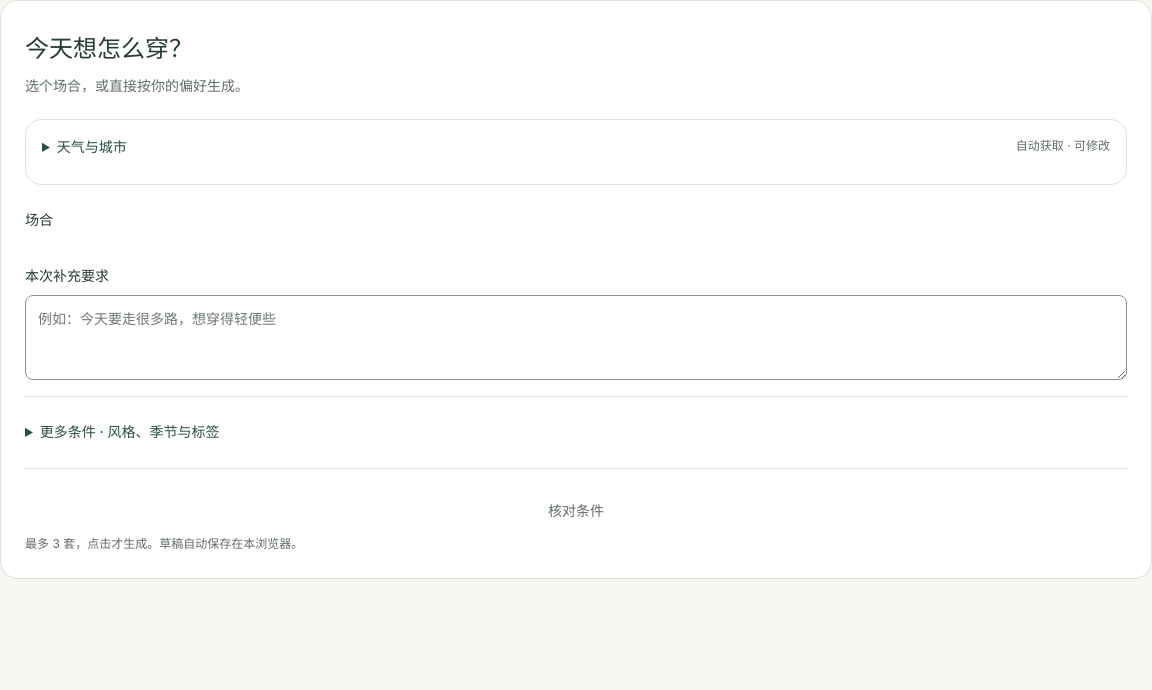
Test: invalid manual weather reopens collapsed fields without submitting
The width and height of the screenshot is (1152, 690).
Click the heading "天气与城市 自动获取 · 可修改" at (92, 147), box 57,138 -> 1110,155
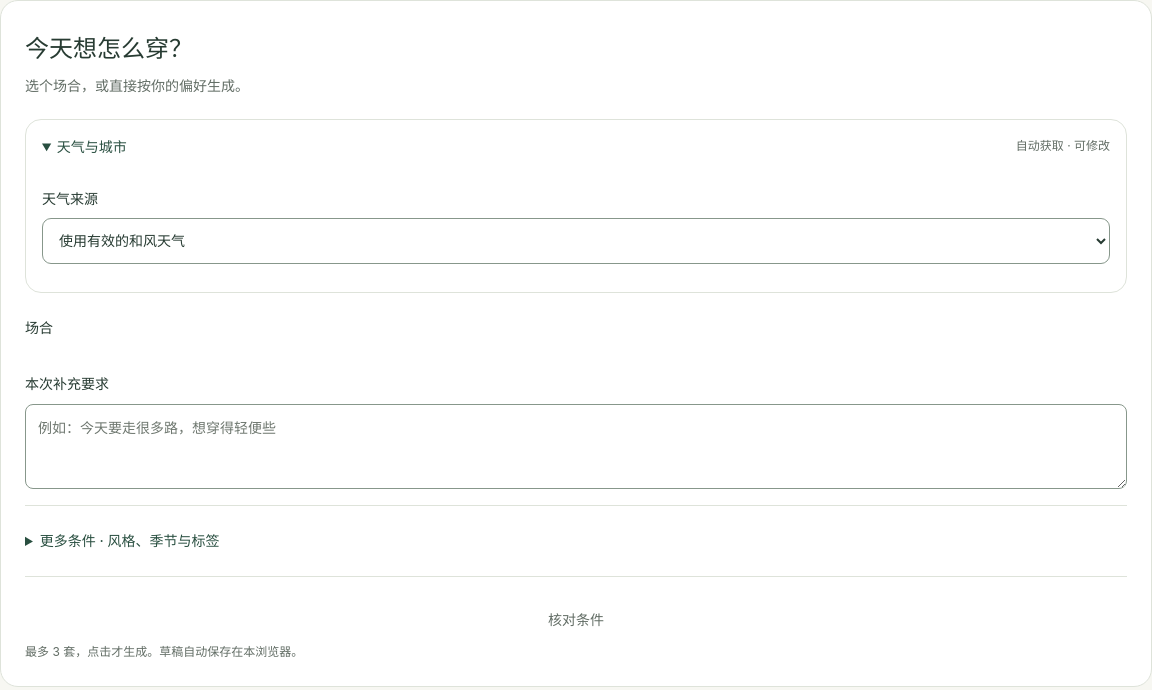
Select "手动填写 / 覆盖" in the dropdown labelled "天气来源" at (576, 241), box 42,218 -> 1110,264
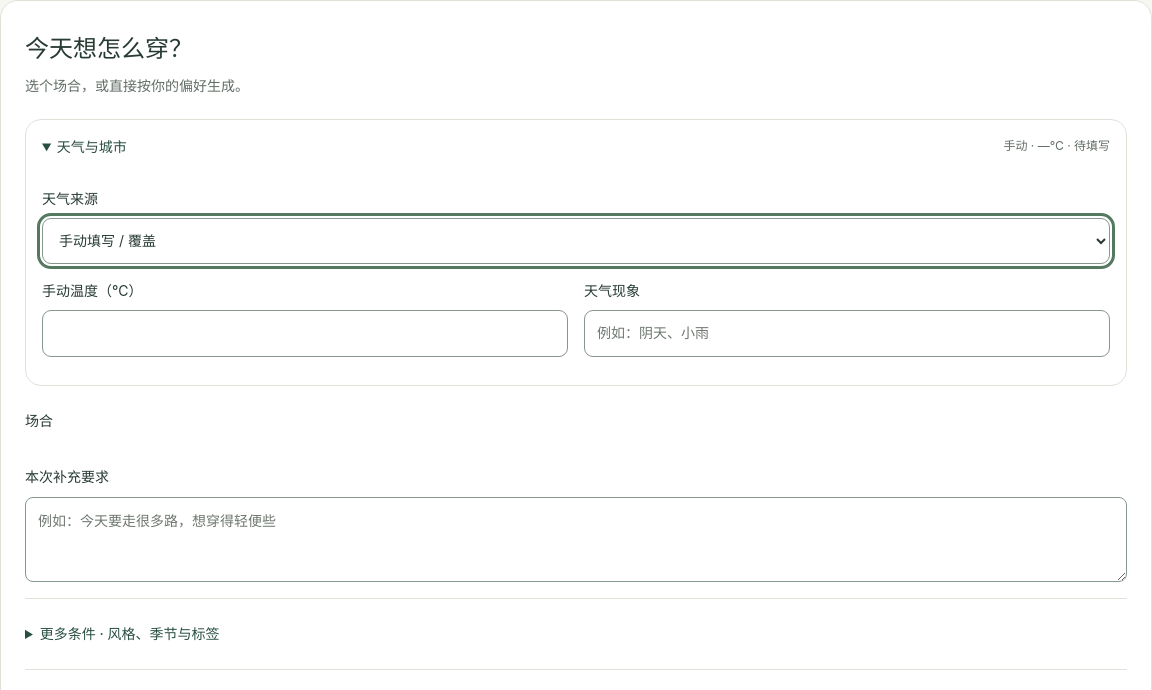
Click the heading "天气与城市 手动 · —℃ · 待填写" at (92, 147), box 57,138 -> 1110,155
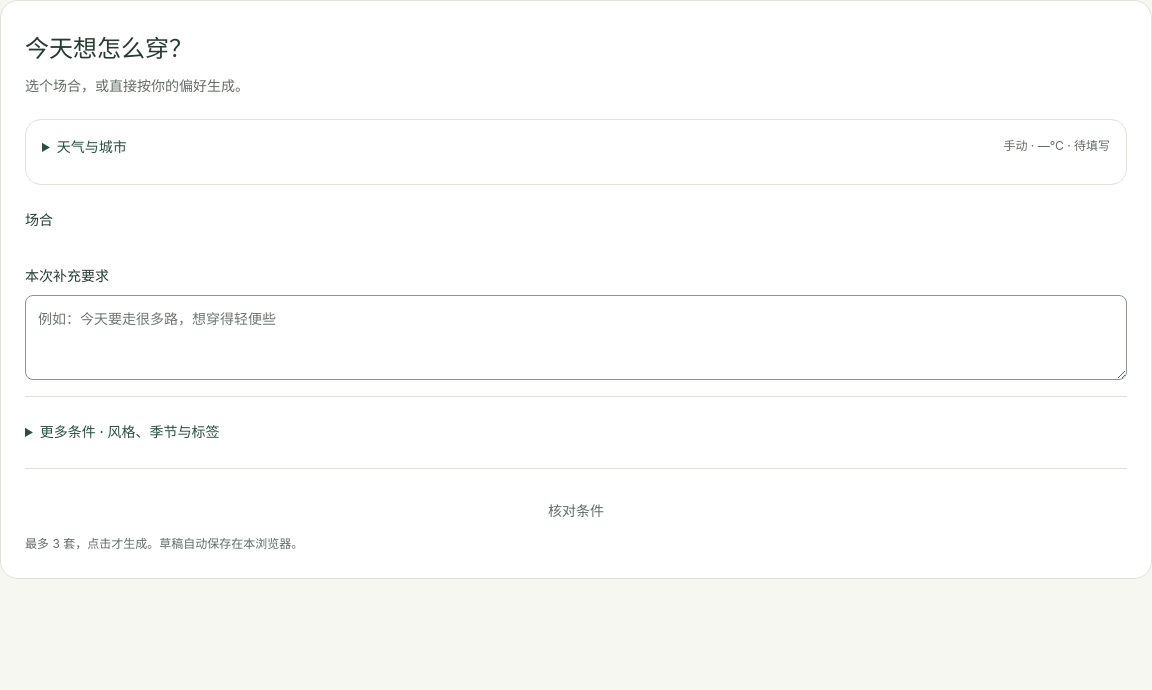
Expected: the label labelled "手动温度（℃）" is gone
Click the button "核对条件" at (576, 511), box 25,489 -> 1127,533
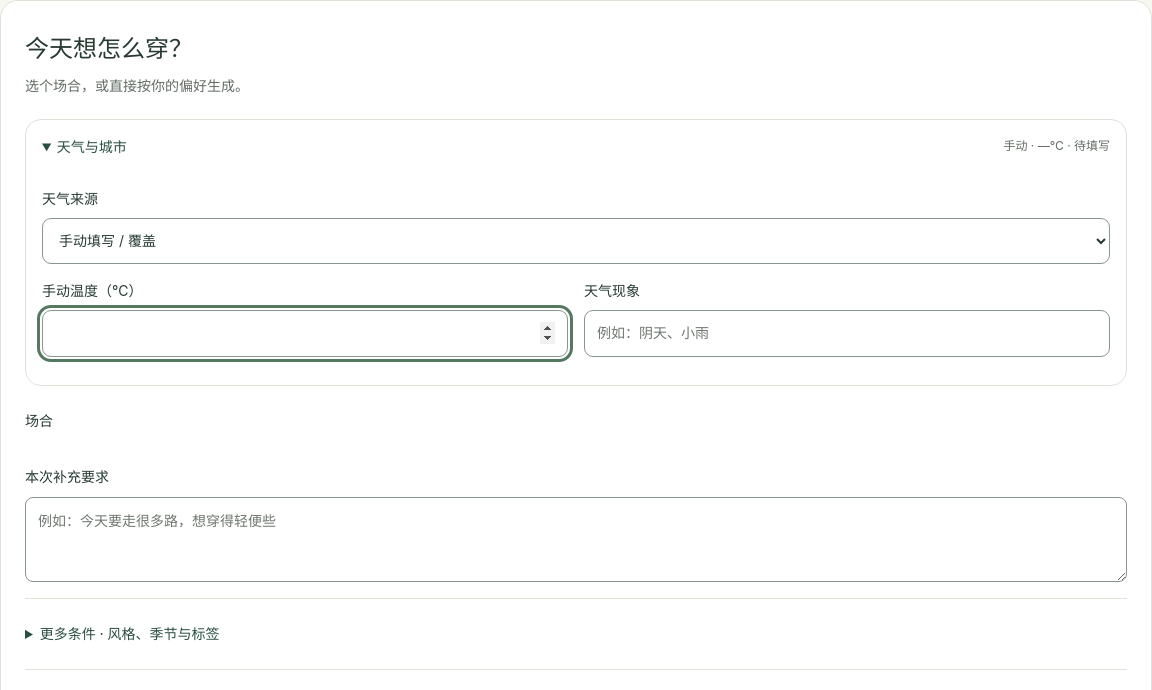
Expected: the number field labelled "手动温度（℃）" is shown, 42,310 -> 568,357
